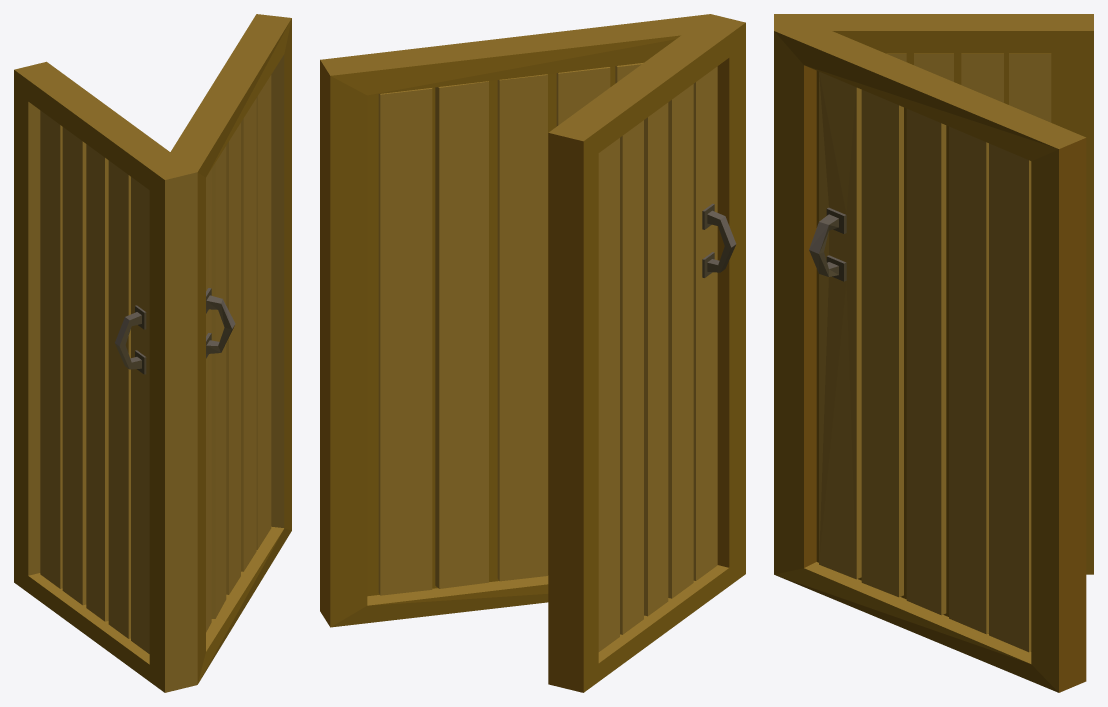
The picture shows the model from 3 angles, left to right: view 1: azimuth 30°, elevation 25°; view 2: azimuth 150°, elevation 25°; view 3: azimuth 270°, elevation 25°; orthographic projection. The views are drawn at different scales.
Size of the model in its own units: 137 by 240 by 128.
1 material, 1 textured.
